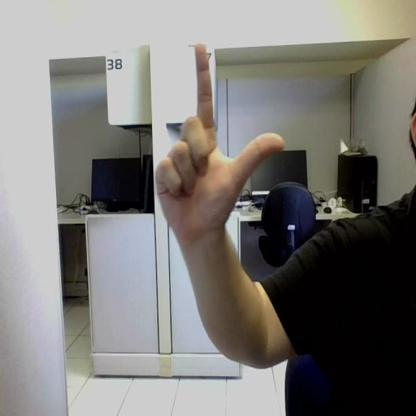L: (157, 43, 283, 237)
